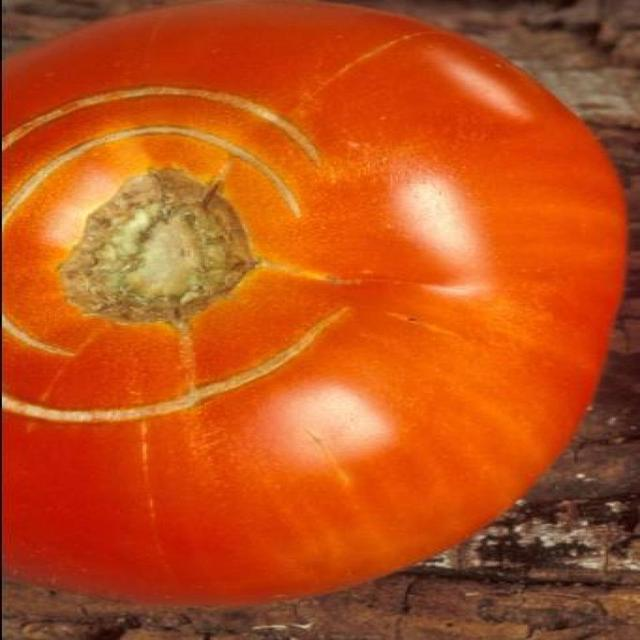Cracking Fruit: (33, 55, 241, 241)
